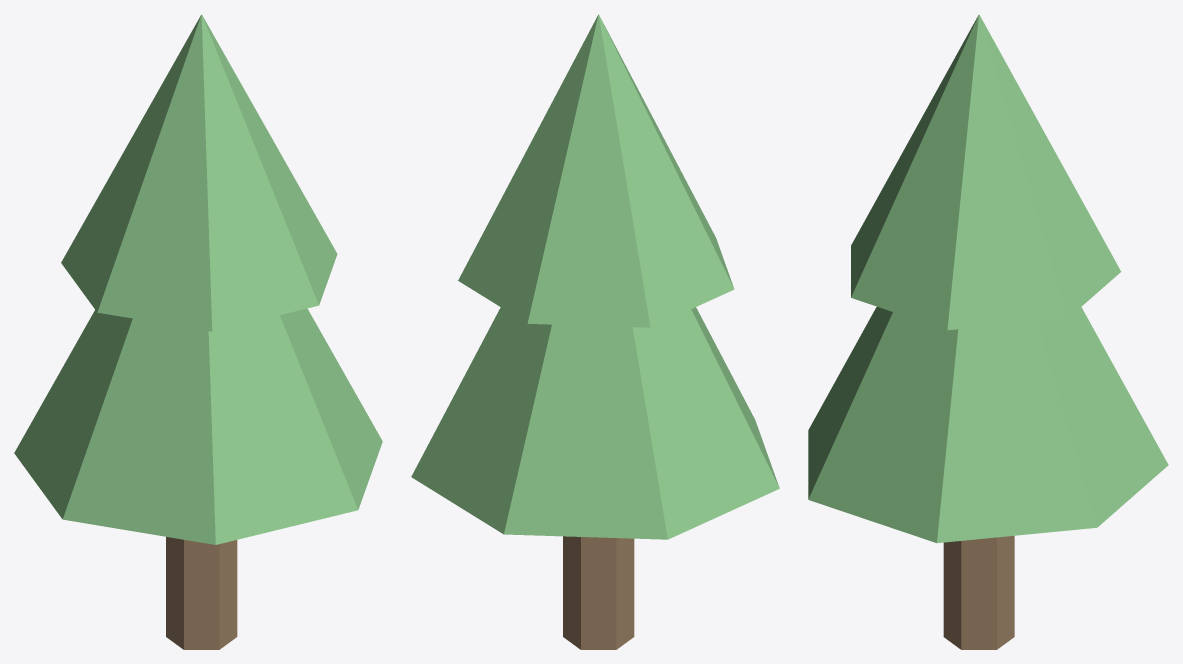
File: arbol.glb
3 renders of one model, left to right at view 1: azimuth 30°, elevation 25°; view 2: azimuth 150°, elevation 25°; view 3: azimuth 270°, elevation 25°, orthographic.
Visible parts, largest first — view 1: Cone, Cone.001, Cylinder; view 2: Cone, Cone.001, Cylinder; view 3: Cone, Cone.001, Cylinder.
Part boxes in pixels (bbox=[...]): Cone: bbox=[14, 308, 382, 544]; Cone.001: bbox=[61, 14, 337, 331]; Cylinder: bbox=[166, 537, 237, 649]; Cone: bbox=[411, 307, 779, 539]; Cone.001: bbox=[458, 14, 734, 327]; Cylinder: bbox=[563, 536, 634, 649]; Cone: bbox=[808, 306, 1168, 543]; Cone.001: bbox=[851, 14, 1121, 330]; Cylinder: bbox=[943, 535, 1014, 649].
Size of the model in its own units: 1.56 by 2.9 by 1.52.
